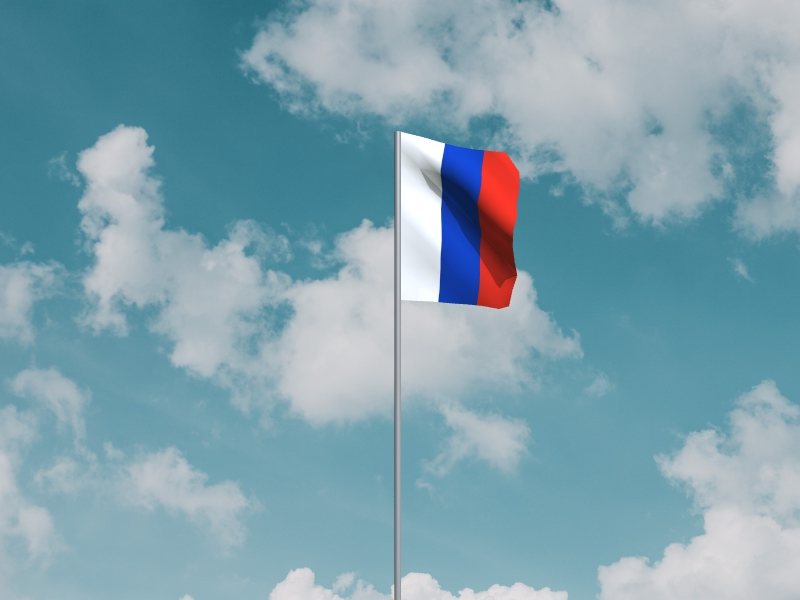ru: (402, 133, 520, 310)
